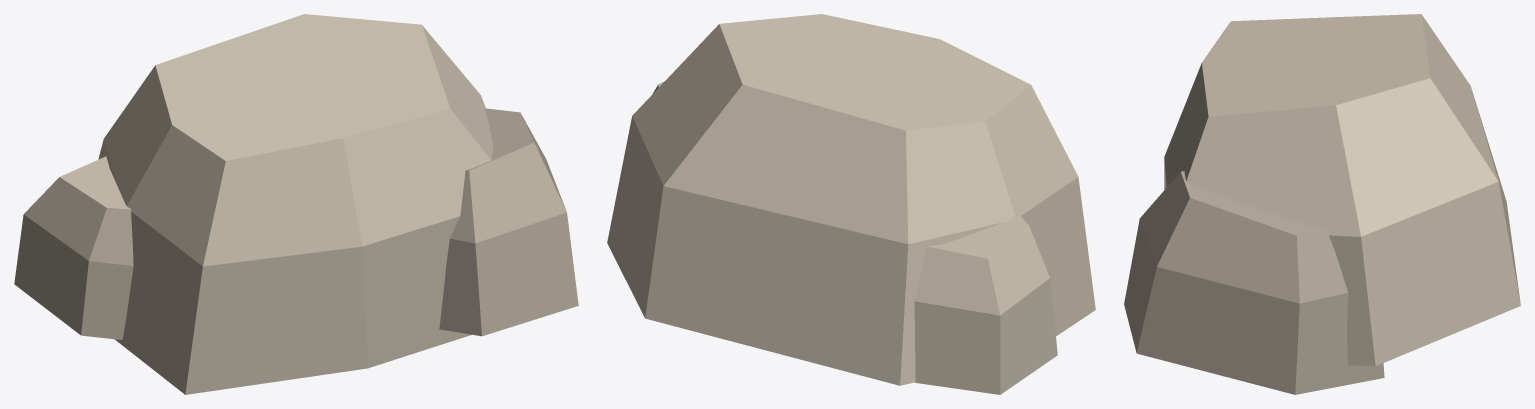
File: boulder_large.glb
3 renders of one model, left to right at view 1: azimuth 30°, elevation 25°; view 2: azimuth 150°, elevation 25°; view 3: azimuth 270°, elevation 25°, orthographic. The views are drawn at different scales.
Visible parts, largest first — view 1: boulder_large; view 2: boulder_large; view 3: boulder_large.
Boxes of the visible parts, x1=… form: boulder_large: x1=14, y1=14, x2=578, y2=394; boulder_large: x1=607, y1=14, x2=1095, y2=394; boulder_large: x1=1124, y1=14, x2=1520, y2=394.
Bounding box in the file's own units: 3.01 × 1.59 × 2.29.
